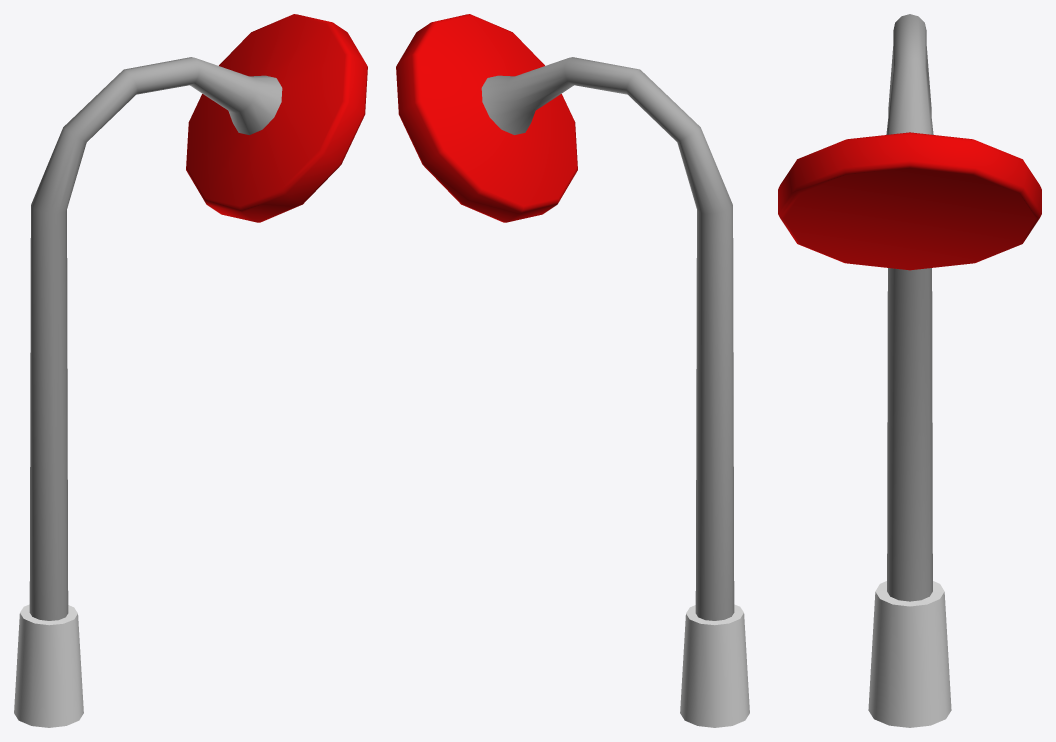
The model's file is shower.fbx.
3 renders of one model, left to right at view 1: azimuth 30°, elevation 25°; view 2: azimuth 150°, elevation 25°; view 3: azimuth 270°, elevation 25°, orthographic. The views are drawn at different scales.
Visible parts, largest first — view 1: polySurface31; view 2: polySurface31; view 3: polySurface31.
Part boxes in pixels (left/top/right/bottom): polySurface31: left=14, top=14, right=367, bottom=727; polySurface31: left=396, top=14, right=749, bottom=727; polySurface31: left=778, top=14, right=1041, bottom=727.
Size of the model in its own units: 1.71 by 3.08 by 0.9943.
